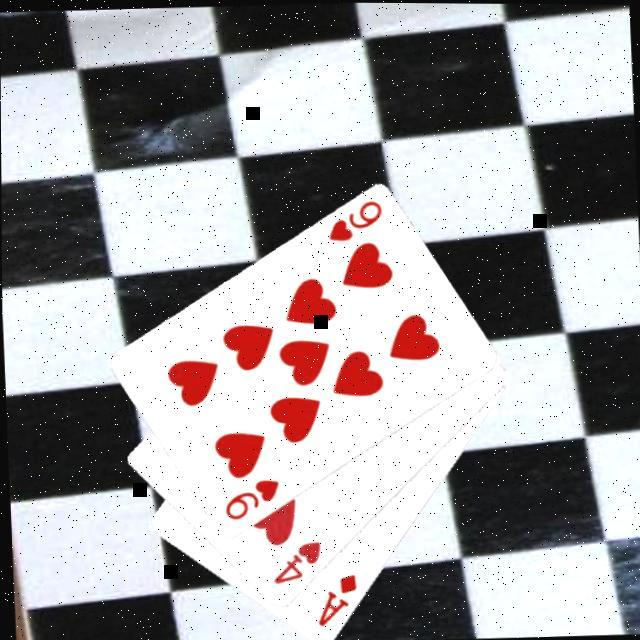4H: (266, 538, 324, 588)
9H: (218, 476, 282, 525), (322, 197, 386, 246)
AD: (310, 571, 360, 631)
